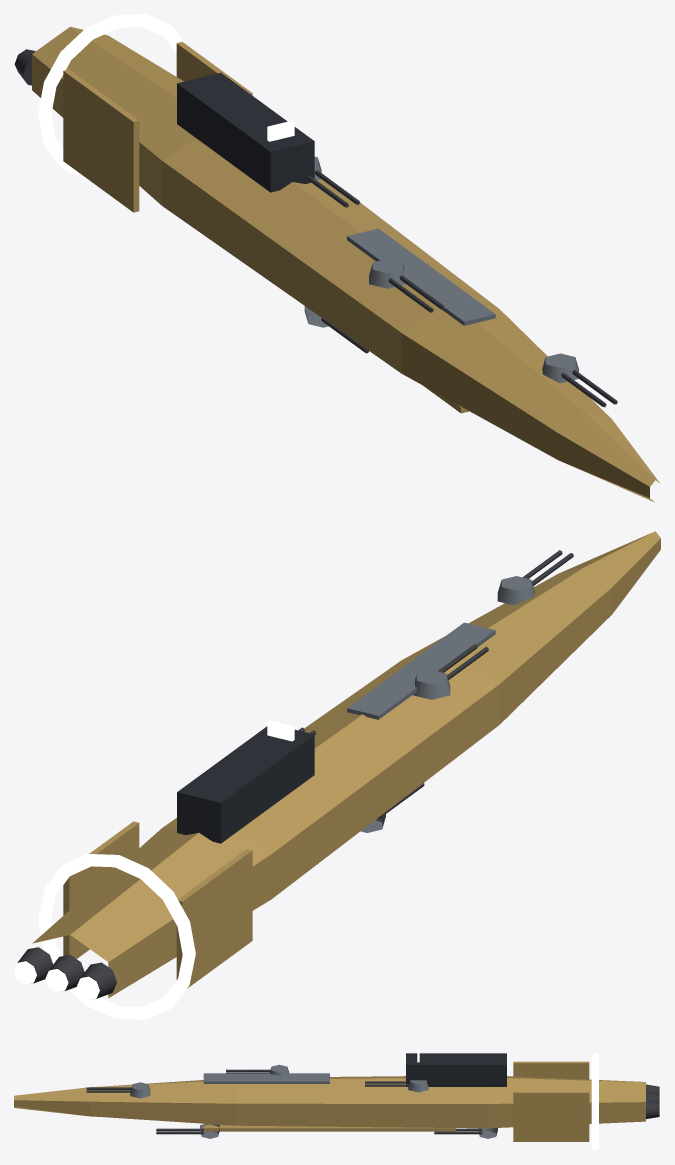
Rendered from space_ship_frigate_mk7.glb.
The picture shows the model from 3 angles, top to bottom: view 1: azimuth 30°, elevation 25°; view 2: azimuth 150°, elevation 25°; view 3: azimuth 270°, elevation 25°; orthographic projection. The views are drawn at different scales.
Visible parts, largest first — view 1: body, turret_2, turret_0; view 2: body, turret_2, turret_0, engine_0, engine_1, engine_2; view 3: body, turret_0, turret_1, turret_4, turret_5, turret_2, engine_2.
Boxes of the visible parts, x1,y1,x2,y2 form: body: [32, 14, 660, 502]; turret_2: [369, 258, 444, 312]; turret_0: [542, 353, 617, 407]; body: [32, 531, 660, 1019]; turret_2: [413, 644, 488, 699]; turret_0: [497, 550, 573, 604]; engine_0: [77, 962, 116, 999]; engine_1: [45, 955, 84, 992]; engine_2: [14, 947, 53, 984]; body: [14, 1048, 645, 1150]; turret_0: [86, 1082, 150, 1098]; turret_1: [156, 1124, 219, 1138]; turret_4: [365, 1080, 428, 1092]; turret_5: [434, 1128, 497, 1138]; turret_2: [226, 1064, 289, 1075]; engine_2: [646, 1101, 660, 1118].
Size of what is drawn, in the model's own units: 7.96 by 8.49 by 52.82.
